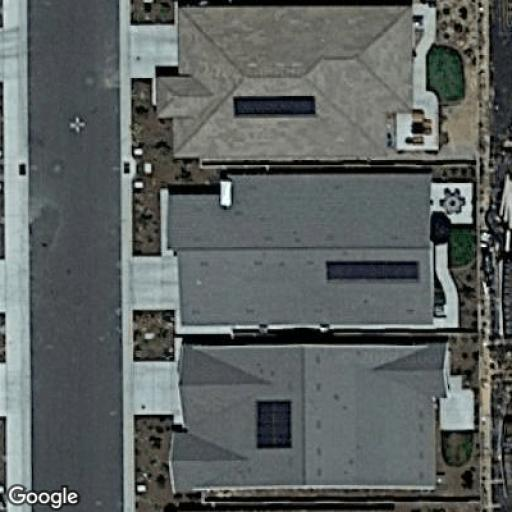solar-panel: (232, 94, 318, 118), (254, 399, 294, 450), (324, 260, 420, 281)
